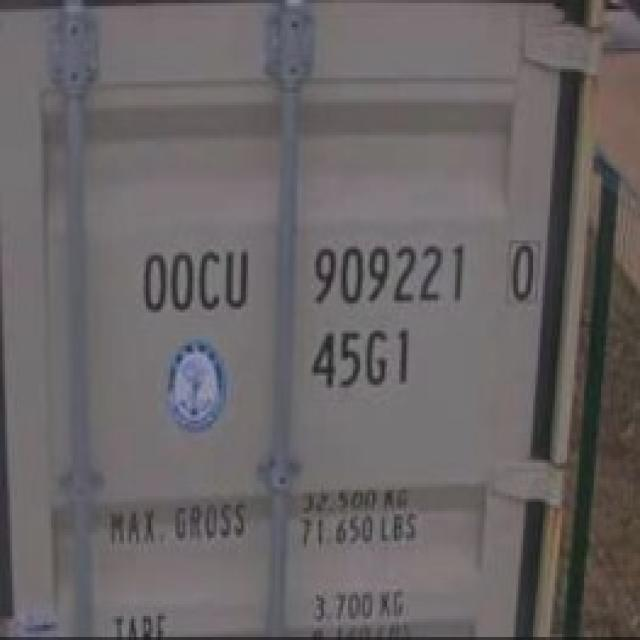dv: (502, 239, 541, 307)
owner: (138, 245, 256, 320)
serial: (309, 238, 469, 314)
size: (305, 322, 422, 396)
